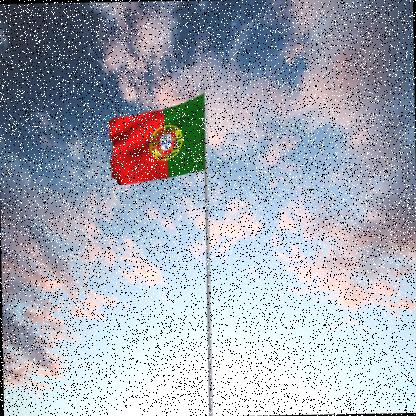pt: (108, 94, 206, 187)
